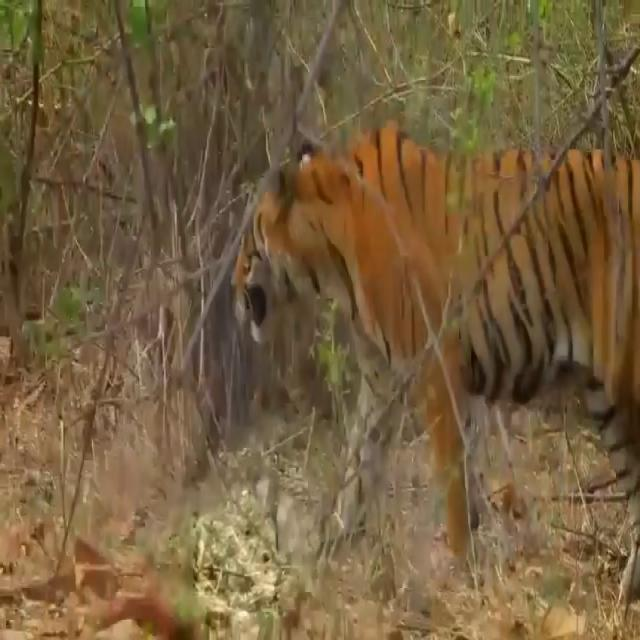tiger: (230, 118, 640, 602)
